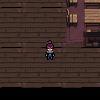Victim: (43, 39, 56, 61)
